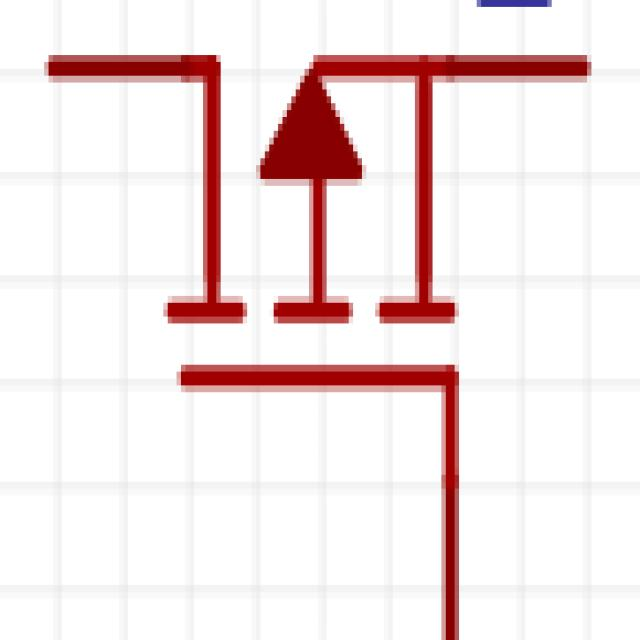pmos: (41, 18, 637, 640)
